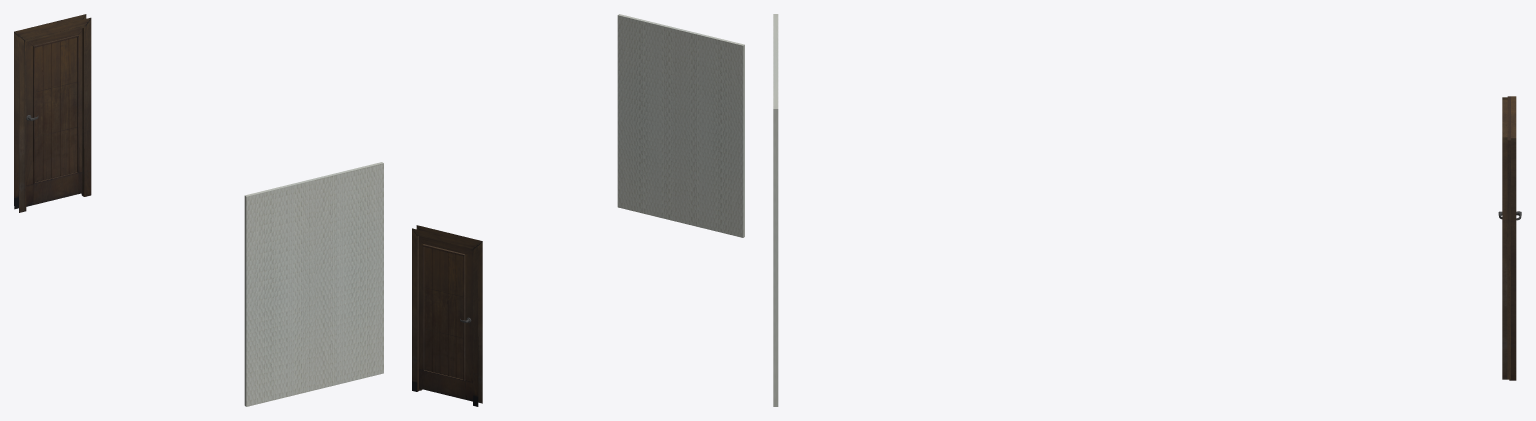
3 views of the same model, side by side, from view 1: azimuth 30°, elevation 25°; view 2: azimuth 150°, elevation 25°; view 3: azimuth 270°, elevation 25° (orthographic). The views are drawn at different scales.
Visible parts, largest first — view 1: wall, Door, DoorFrame; view 2: wall, Door, DoorFrame; view 3: DoorFrame, wall, Door.
Boxes of the visible parts, x1,y1,x2,y2 form: wall: [244, 162, 383, 406]; Door: [26, 28, 82, 206]; DoorFrame: [14, 14, 91, 212]; wall: [617, 14, 744, 237]; Door: [419, 236, 472, 401]; DoorFrame: [412, 225, 482, 406]; DoorFrame: [1502, 96, 1516, 380]; wall: [773, 14, 778, 406]; Door: [1507, 96, 1510, 379].
Bounding box in the file's own units: 537 × 790 × 1786.
3 materials, 2 textured.
